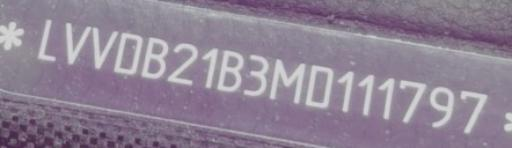letter: (268, 56, 306, 104), (458, 85, 490, 132), (166, 41, 200, 85), (112, 29, 144, 75), (304, 61, 334, 109), (398, 76, 428, 123), (242, 50, 270, 98), (140, 35, 170, 79), (217, 48, 245, 94), (64, 21, 92, 66), (92, 25, 118, 70), (428, 83, 454, 128), (37, 16, 57, 65), (356, 71, 376, 119), (376, 74, 396, 121), (334, 70, 354, 114), (201, 45, 219, 91)
